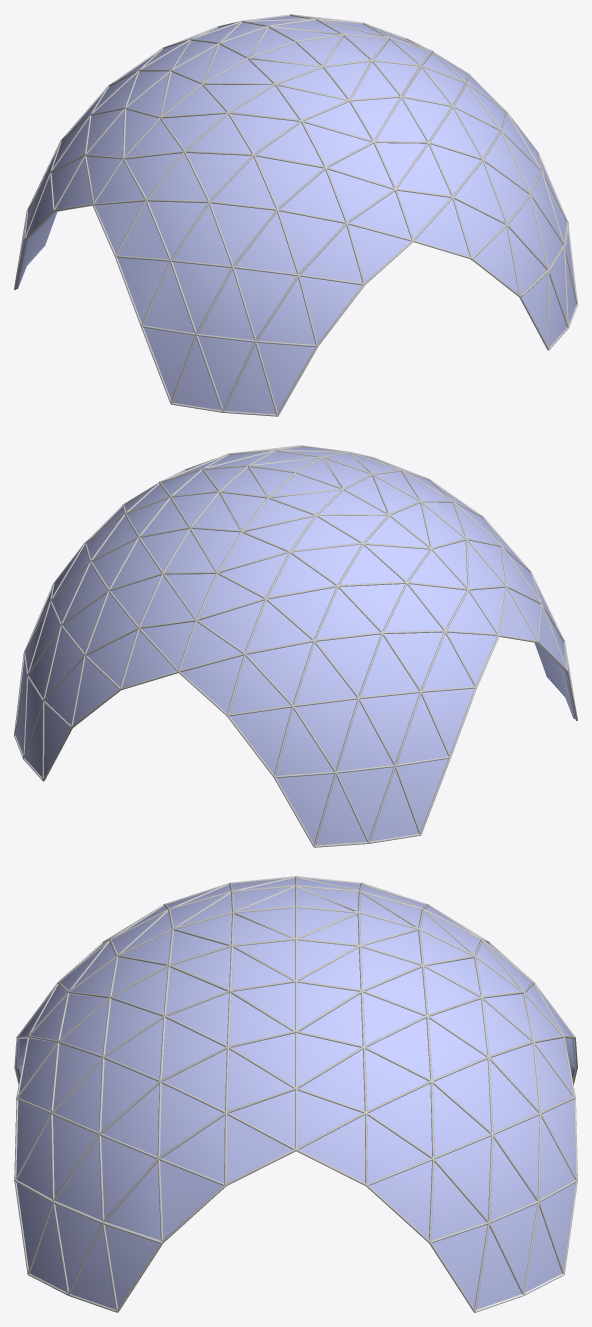
3 views of the same model, one above another, from view 1: azimuth 30°, elevation 25°; view 2: azimuth 150°, elevation 25°; view 3: azimuth 270°, elevation 25° (orthographic). The views are drawn at different scales.
Parts seen in each view (by area): view 1: GEO, Shape013, Shape025, Shape002, Line015, Shape011, Shape016, Shape010, Shape009, Shape024, Line025, Shape023 (+11 smaller); view 2: GEO, Shape002, Shape025, Shape004, Line015, Shape016, Shape003, Shape005, Shape024, Shape006, Shape023, Line026 (+12 smaller); view 3: GEO, Shape016, Shape018, Shape017, Shape019, Line015, Shape002, Shape013, Shape020, Line025, Shape022, CONTORNO (+13 smaller).
Part boxes in pixels (x1,y1,x2,y2): GEO: [16, 15, 576, 414]; Shape013: [223, 188, 568, 416]; Shape025: [14, 154, 222, 411]; Shape002: [53, 18, 468, 210]; Line015: [84, 85, 507, 241]; Shape011: [171, 141, 577, 403]; Shape016: [217, 14, 472, 257]; Shape010: [141, 95, 567, 326]; Shape009: [115, 59, 538, 256]; Shape024: [60, 107, 277, 415]; Line025: [123, 73, 469, 189]; Shape023: [108, 69, 317, 345]; GEO: [15, 446, 575, 845]; Shape002: [53, 465, 499, 686]; Shape025: [369, 585, 577, 842]; Shape004: [14, 572, 420, 834]; Line015: [90, 516, 507, 672]; Shape016: [120, 445, 374, 688]; Shape003: [24, 526, 450, 756]; Shape005: [23, 619, 368, 842]; Shape024: [314, 538, 531, 846]; Shape006: [42, 671, 314, 847]; Shape023: [274, 500, 483, 776]; Line026: [138, 536, 468, 620]; GEO: [16, 878, 575, 1309]; Shape016: [17, 906, 575, 1097]; Shape018: [27, 1031, 564, 1274]; Shape017: [15, 980, 577, 1179]; Shape019: [68, 1088, 524, 1294]; Line015: [27, 942, 564, 1149]; Shape002: [295, 876, 367, 1184]; Shape013: [14, 982, 69, 1294]; Shape020: [117, 1149, 475, 1312]; Line025: [68, 904, 427, 1088]; Shape022: [17, 885, 574, 1036]; CONTORNO: [172, 876, 419, 980].
Size of the model in its own units: 3550 by 1984 by 3453.
